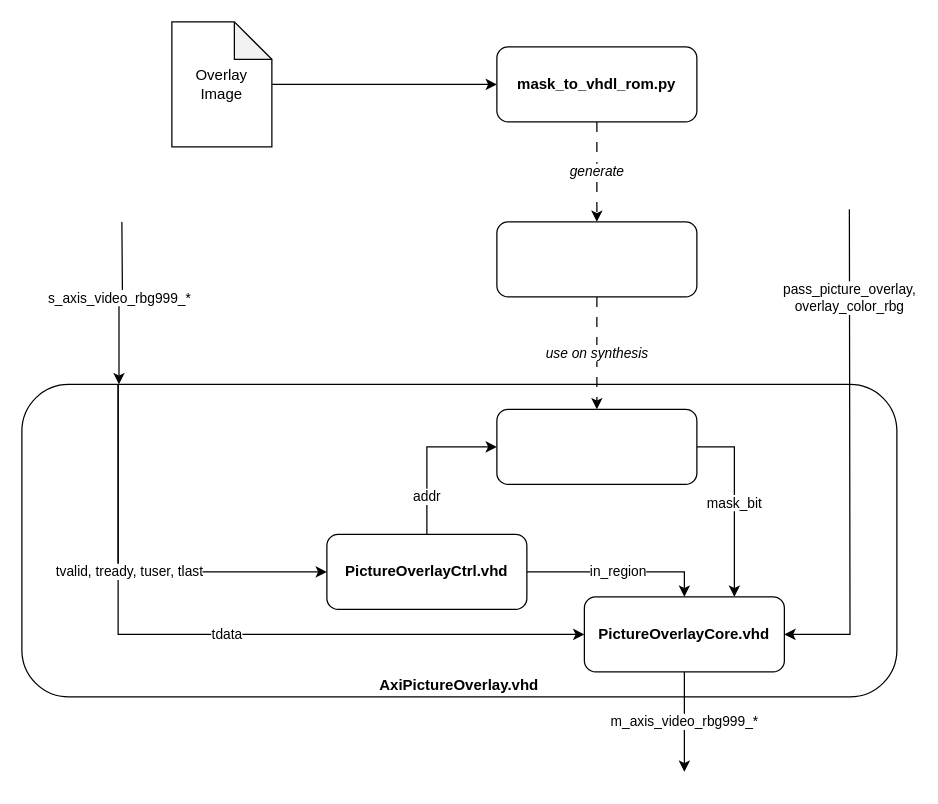
This 938x804 diagram has some shape labels left out. Each missing label, with the centre of its shape:
MaskRom.vhd: (x=596, y=446)
MaskRomPkg.vhd: (x=596, y=259)
